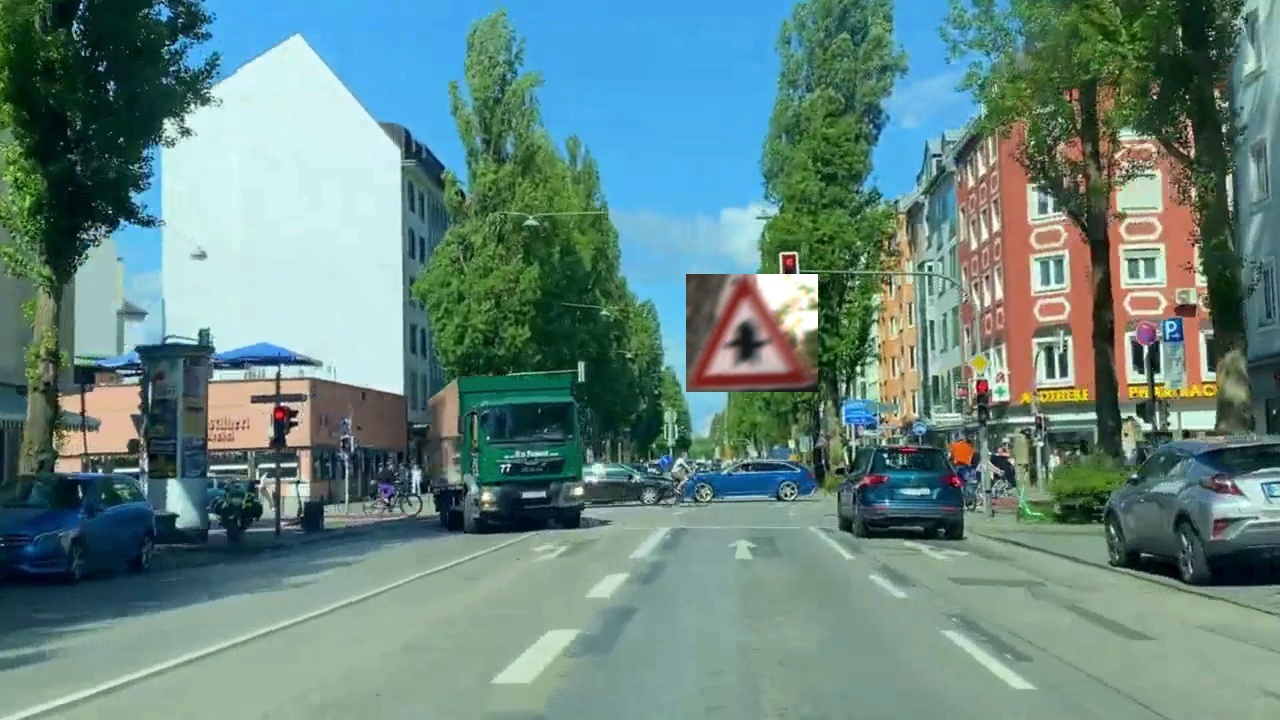Right-of-way: (686, 274, 818, 392)
